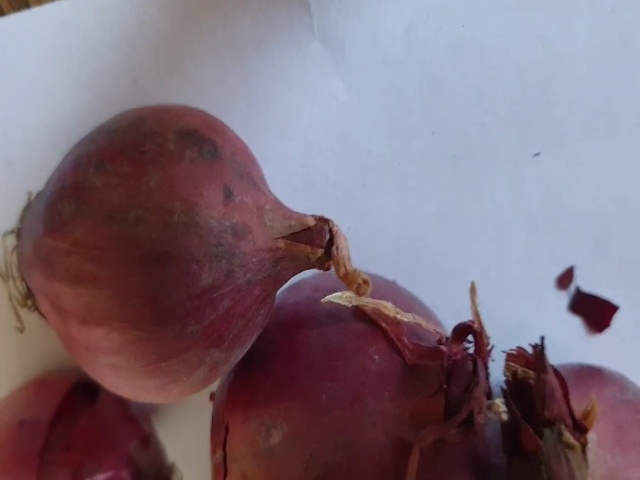red_onion: (3, 102, 374, 401), (214, 297, 504, 477), (498, 332, 639, 480)
